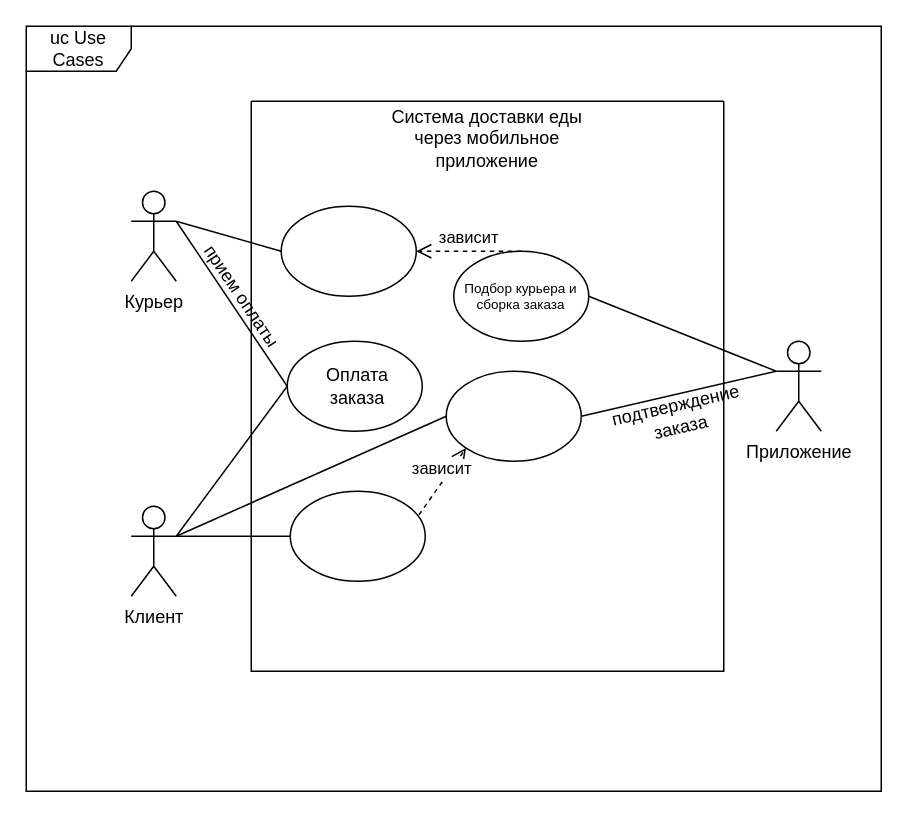
Some shapes in this 908 by 818 pixel diagram are drawn without their labels. Here are the shapes that lost their labels. From the top down, the centre of each, then its label:
(x=348, y=250): Доставка заказа
(x=513, y=415): Оформление заказа
(x=357, y=535): Наполнение корзины
